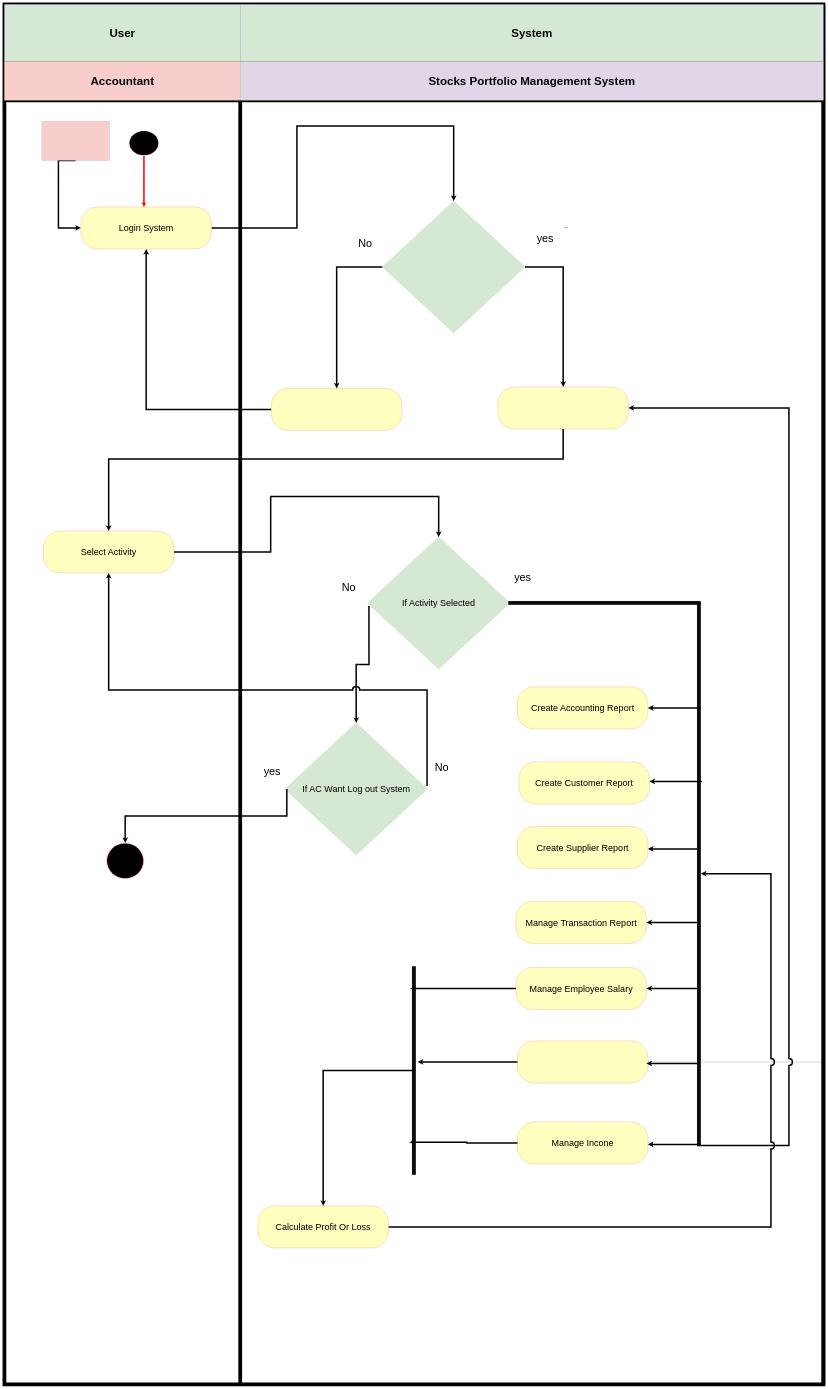
Image size: 828x1389. Some labels were removed from this diagram. Here are the shapes that lost their labels. From the top down, the centre of each, then its label:
[75,140]: Uname password
[453,267]: If User Name And Password Matched
[336,409]: Displaye Error Message "Login Again"
[563,408]: Display AC Activities
[582,1062]: Manage Expencess
